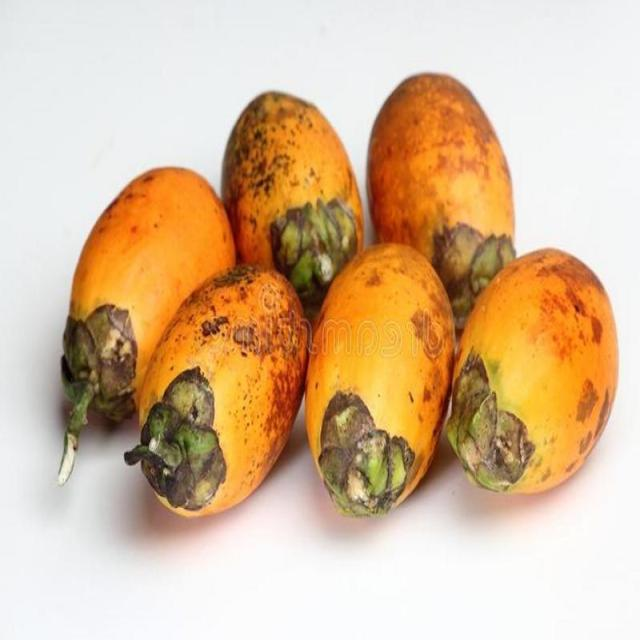good: (61, 166, 236, 482), (125, 265, 312, 521), (442, 247, 622, 498), (302, 245, 459, 519), (367, 72, 518, 325), (220, 92, 366, 322)
